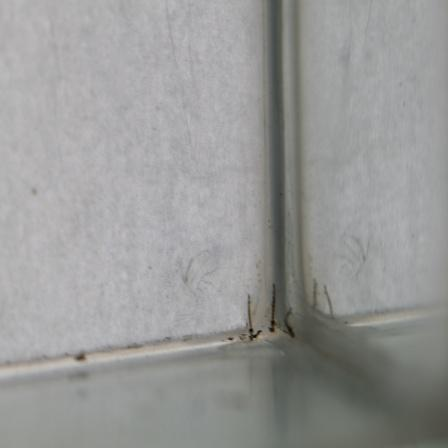Jentik-Nyamuk: (242, 289, 258, 341), (266, 280, 279, 336)
